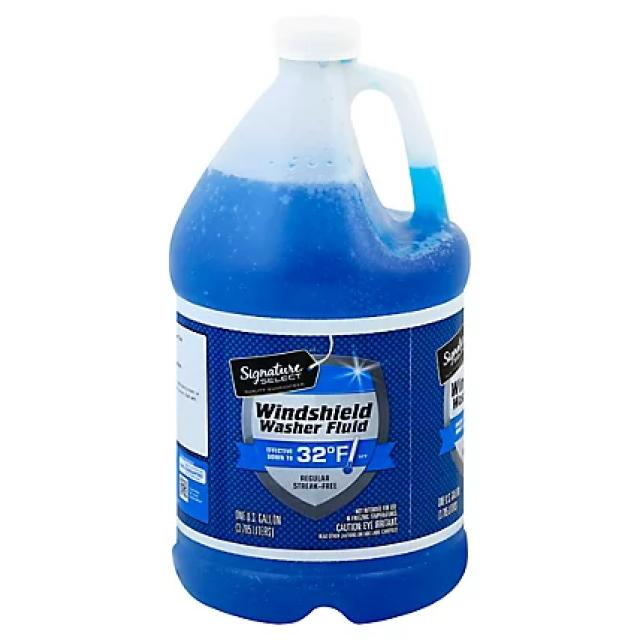winwinshield_washer: (168, 15, 468, 631)
